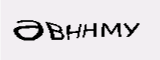В: (48, 10, 62, 32)
И: (68, 7, 85, 29)
О: (90, 4, 115, 28)
Т: (30, 10, 46, 34), (117, 9, 133, 25)
